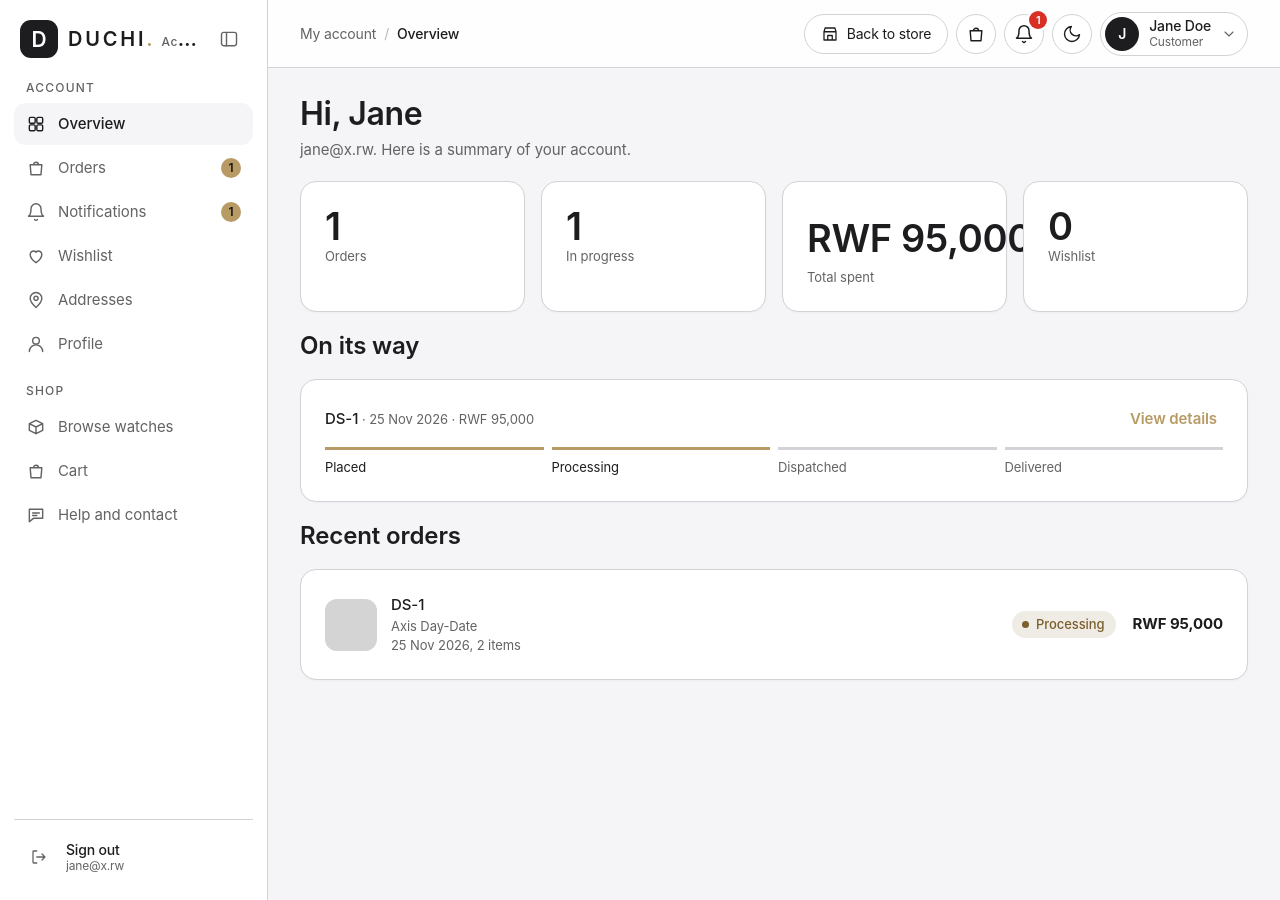
the customer's Notifications page › is a menu item with the unread count, and shows every message in full
Expected: the text with class "ax-ct" next to "Notifications" reads "1", [228,204,234,219]
Click the link "Notifications 1" at (134, 212), box [26,202,241,222]
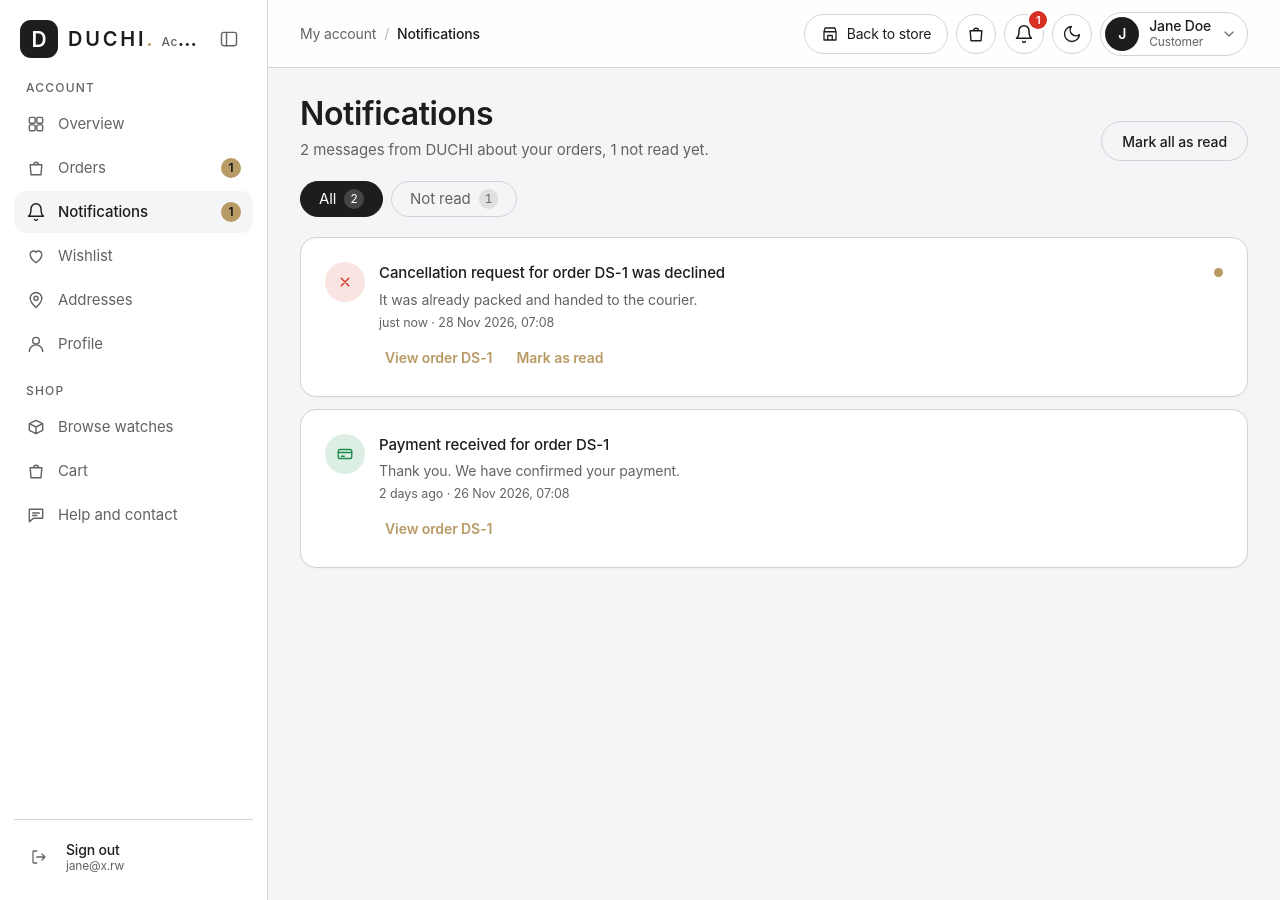
Expected: the heading "Notifications" is shown, [300,94,493,133]
Expected: the text "It was already packed and handed to the courier." is shown, [379,291,697,308]
Expected: the text "Thank you. We have confirmed your payment." is shown, [379,462,680,479]
